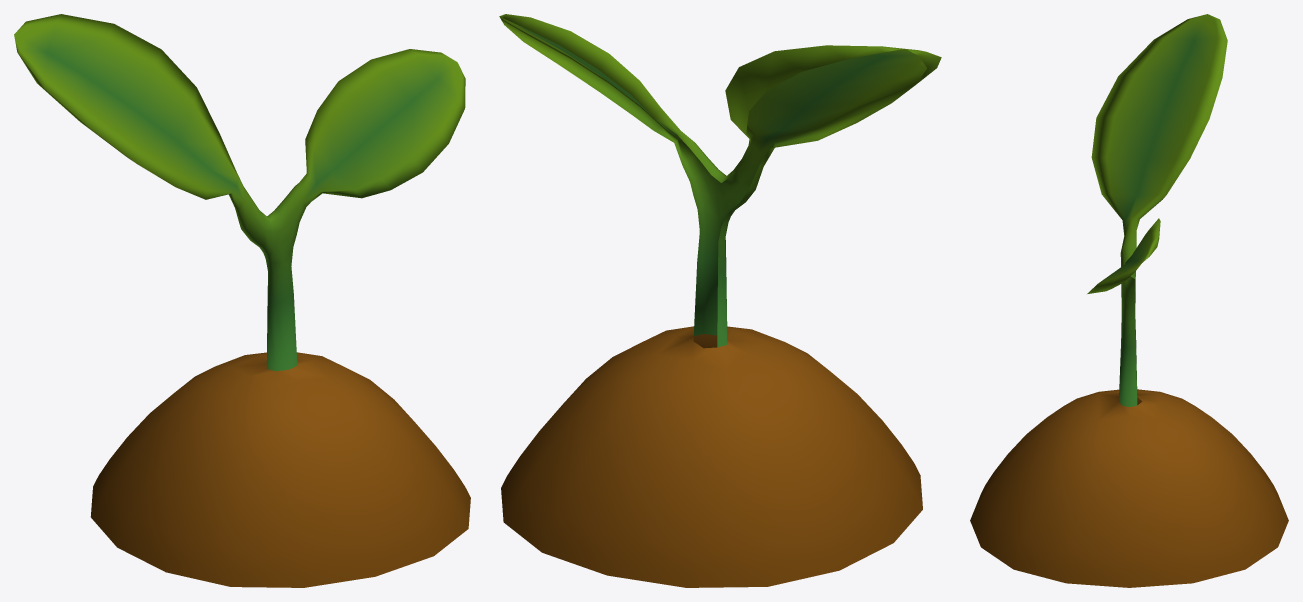
The model's file is Flower.fbx.
3 renders of one model, left to right at view 1: azimuth 30°, elevation 25°; view 2: azimuth 150°, elevation 25°; view 3: azimuth 270°, elevation 25°, orthographic. The views are drawn at different scales.
Visible parts, largest first — view 1: Flower; view 2: Flower; view 3: Flower.
Part boxes in pixels (left/top/right/bottom): Flower: left=14, top=14, right=470, bottom=587; Flower: left=499, top=14, right=941, bottom=587; Flower: left=970, top=14, right=1288, bottom=587.
Size of the model in its own units: 41.79 by 48.01 by 33.16.
